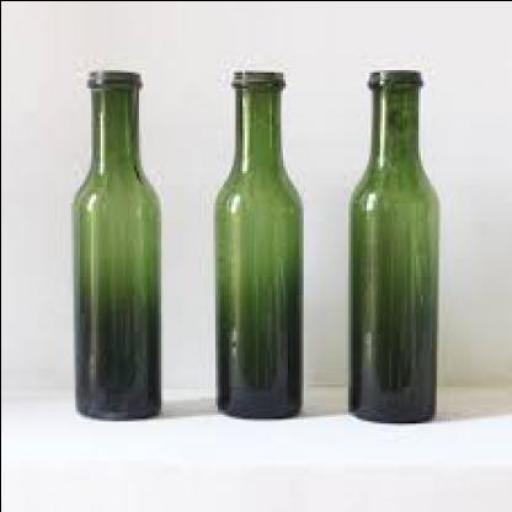glass: (67, 69, 158, 416), (212, 69, 300, 416), (347, 68, 433, 420)
